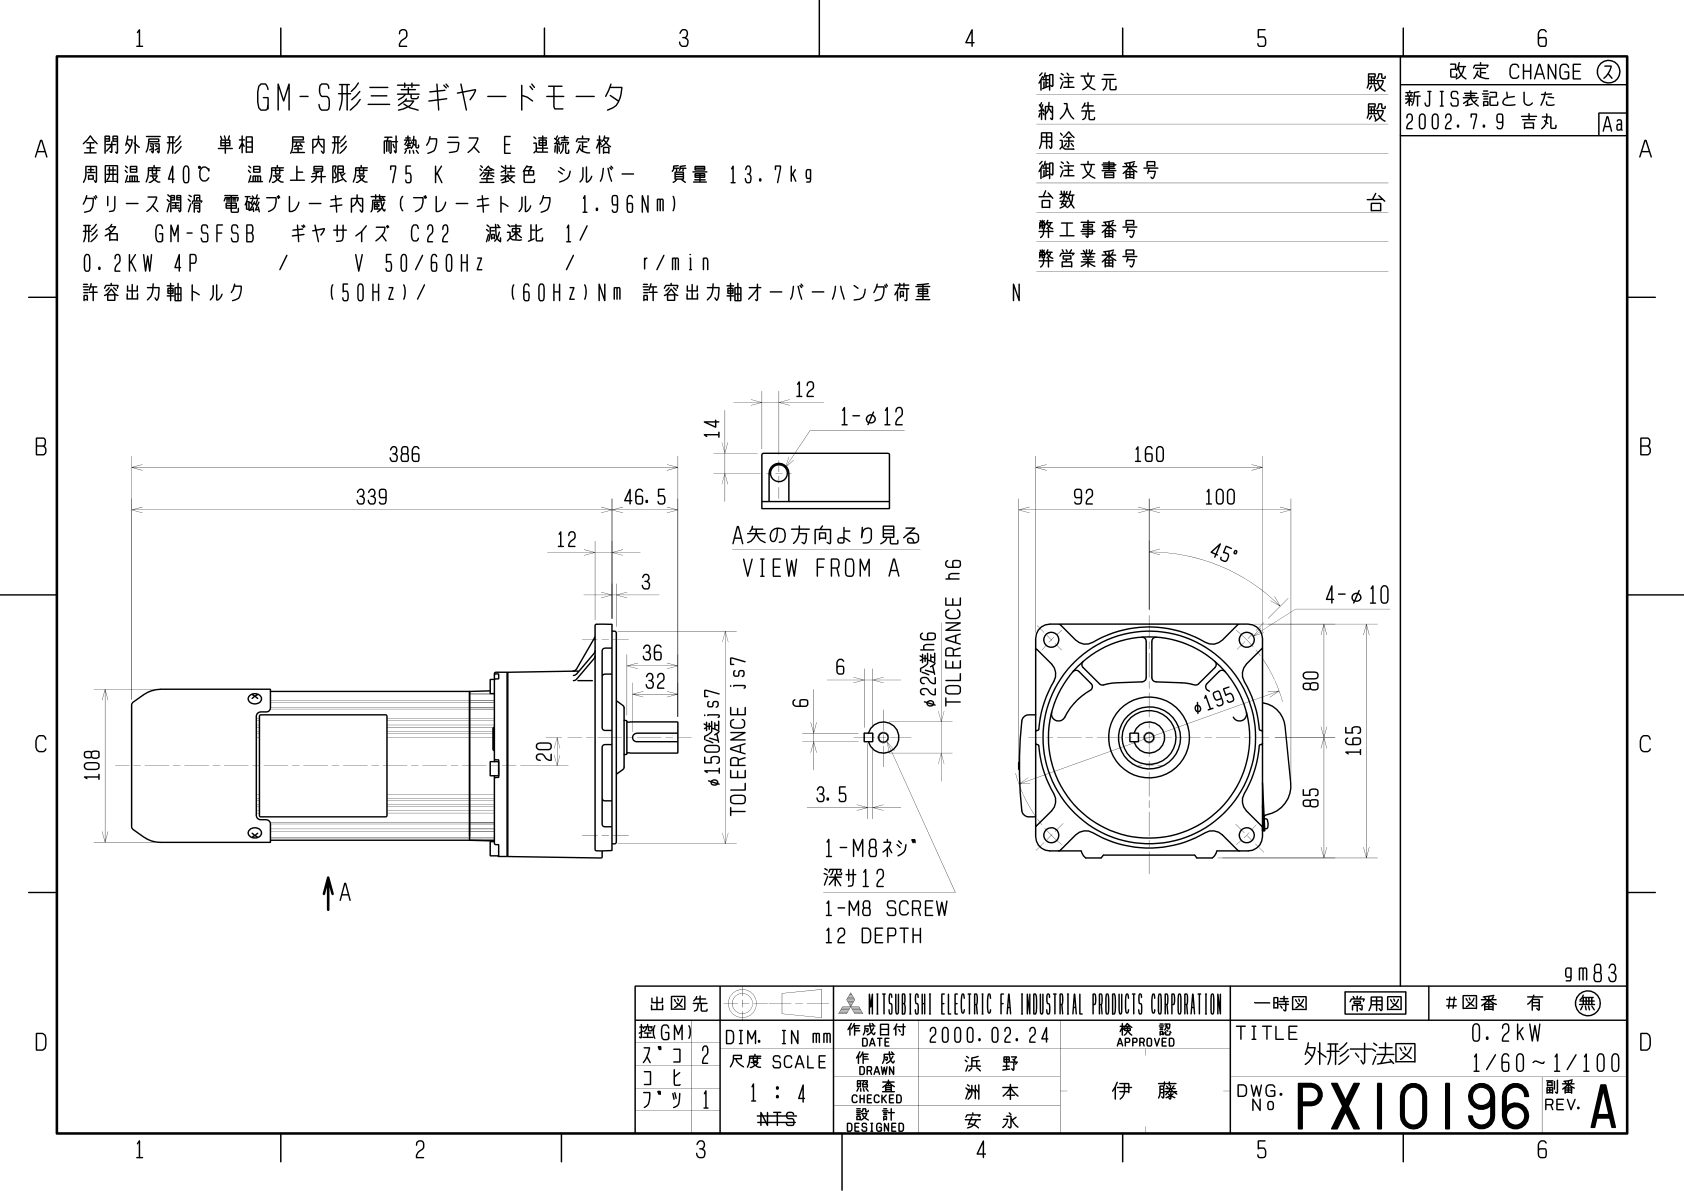GM_S_屋内＿単相_フランジ: (77, 339, 1393, 965)
